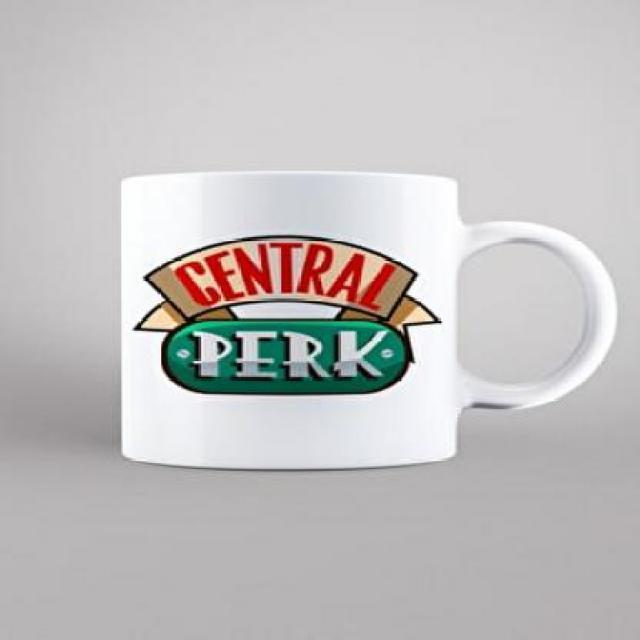taza: (116, 171, 618, 474)
